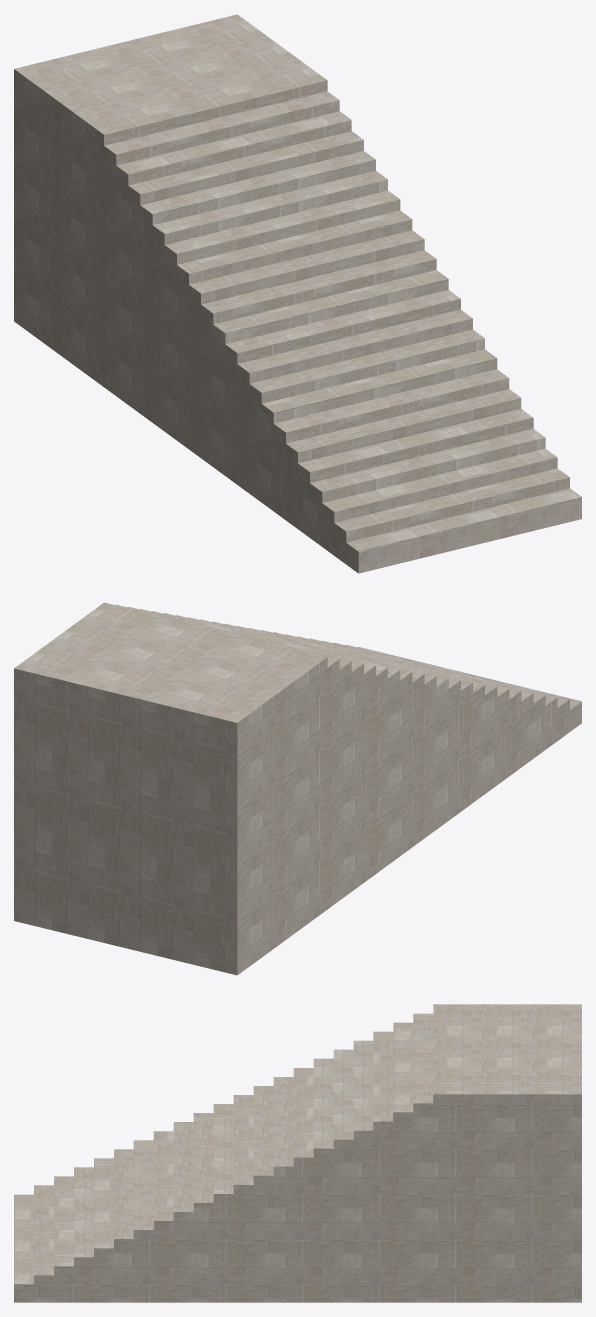
The model's file is stair.fbx.
The picture shows the model from 3 angles, top to bottom: view 1: azimuth 30°, elevation 25°; view 2: azimuth 150°, elevation 25°; view 3: azimuth 270°, elevation 25°; orthographic projection. The views are drawn at different scales.
Visible parts, largest first — view 1: Cube; view 2: Cube; view 3: Cube.
Boxes of the visible parts, box(x1,y1,x2,y2) form: Cube: box(14, 14, 581, 573); Cube: box(14, 602, 581, 975); Cube: box(14, 1004, 581, 1302).
Size of the model in its own units: 1278 by 1380 by 3413.
